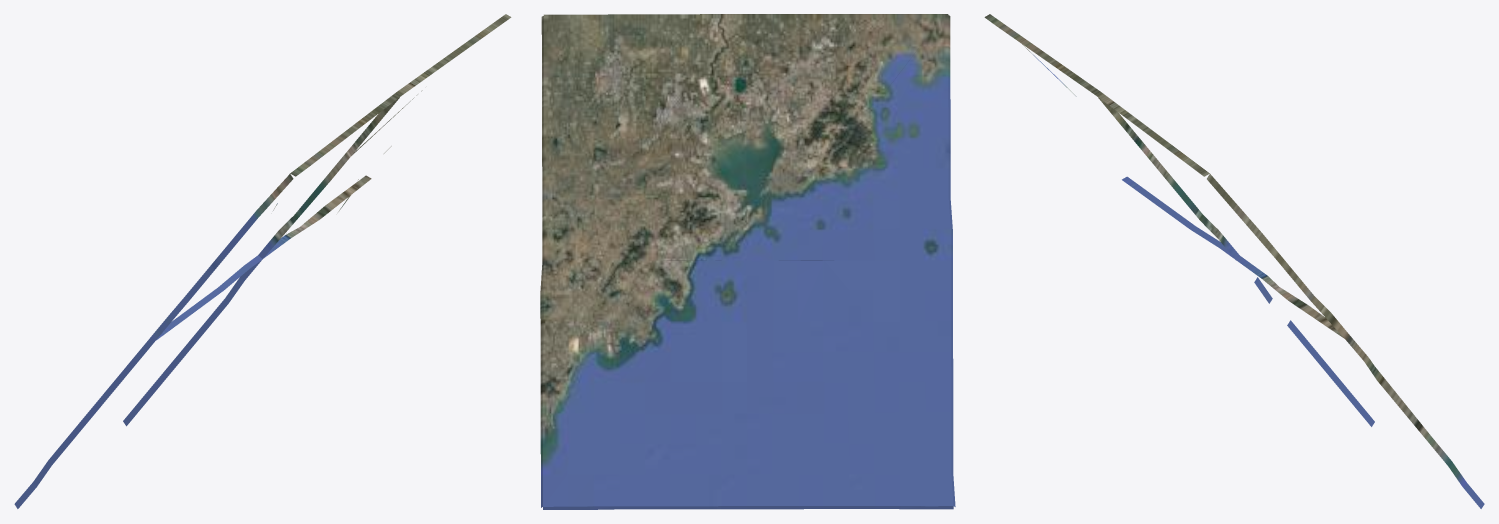
3 renders of one model, left to right at view 1: azimuth 30°, elevation 25°; view 2: azimuth 150°, elevation 25°; view 3: azimuth 270°, elevation 25°, orthographic. The views are drawn at different scales.
Bounding box in the file's own units: 158250 × 129122 × 145205.
Materials: 1 (1 with a texture image).
